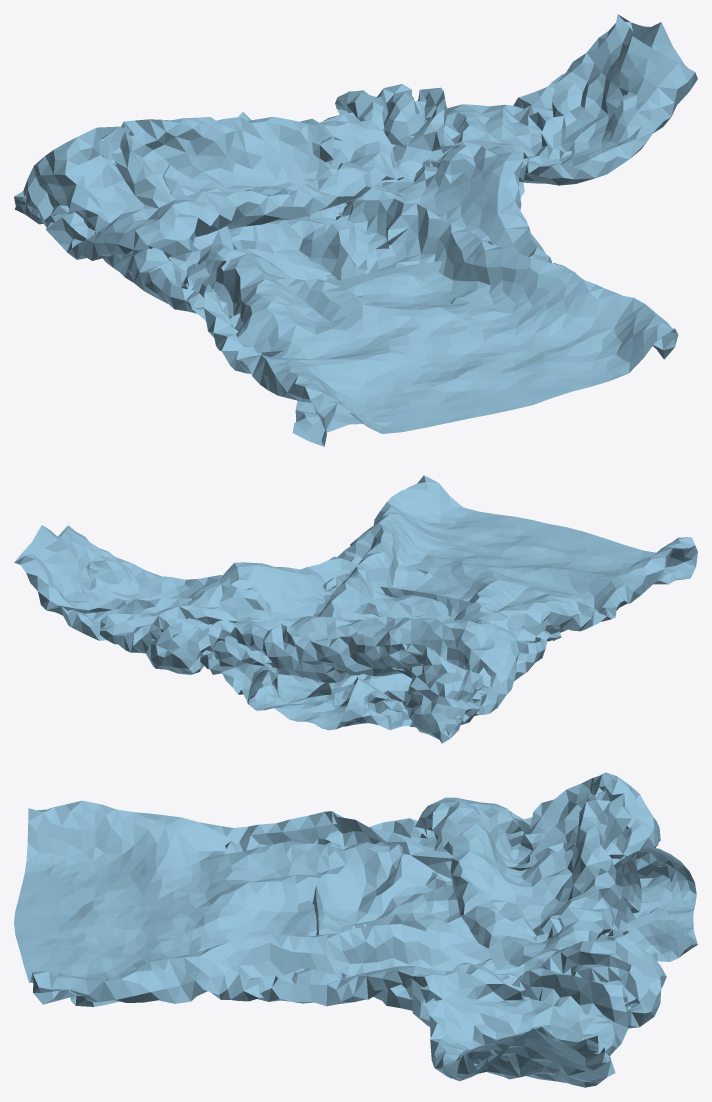
The model's file is frame_02.glb.
3 views of the same model, one above another, from view 1: azimuth 30°, elevation 25°; view 2: azimuth 150°, elevation 25°; view 3: azimuth 270°, elevation 25° (orthographic). The views are drawn at different scales.
Parts seen in each view (by area): view 1: frame_02.obj; view 2: frame_02.obj; view 3: frame_02.obj.
Boxes of the visible parts, x1,y1,x2,y2 form: frame_02.obj: (14, 14, 697, 446); frame_02.obj: (14, 475, 697, 743); frame_02.obj: (14, 772, 697, 1087).
Size of the model in its own units: 1.45 by 0.2345 by 1.42.
